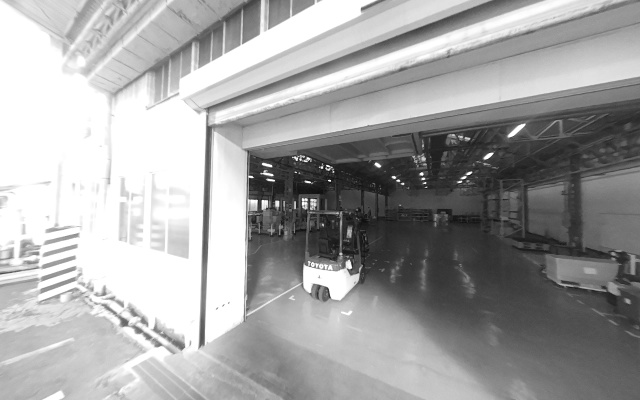bollard: (38, 224, 81, 302)
